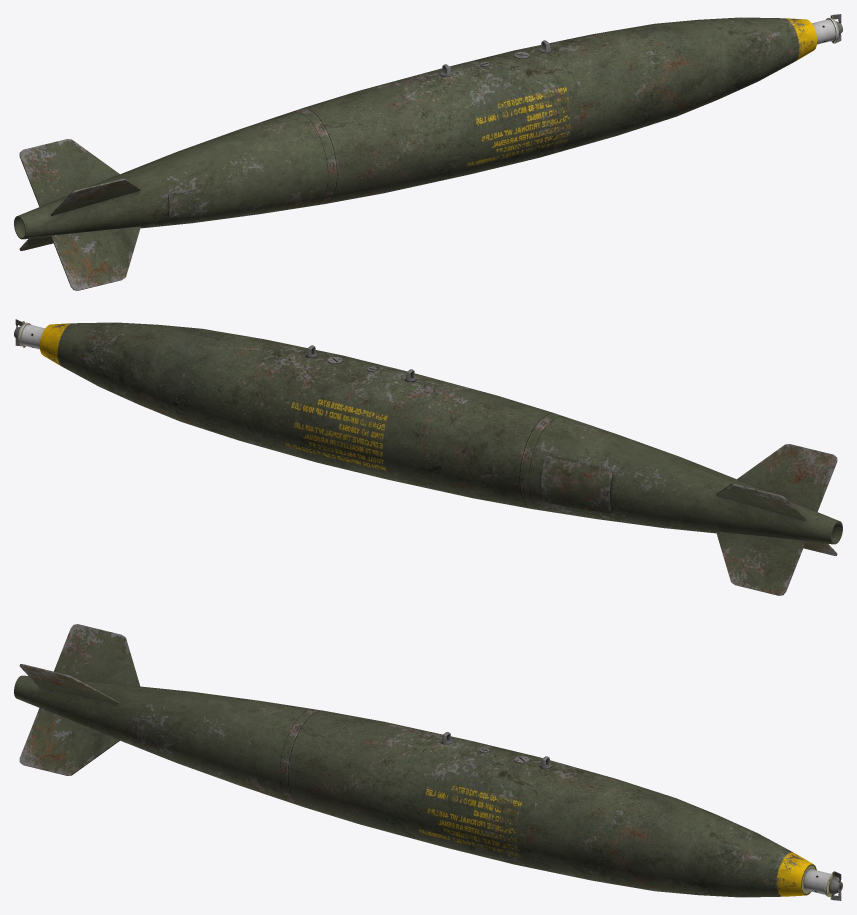
The model's file is us_1000_lb_ldgp_mk_83_bomb_war_thunder.glb.
The picture shows the model from 3 angles, top to bottom: view 1: azimuth 30°, elevation 25°; view 2: azimuth 150°, elevation 25°; view 3: azimuth 330°, elevation 25°; orthographic projection.
Parts seen in each view (by area): view 1: Object_2; view 2: Object_2; view 3: Object_2.
Boxes of the visible parts, box(x1,y1,x2,y2) form: Object_2: box(14, 14, 842, 290); Object_2: box(14, 319, 842, 595); Object_2: box(14, 624, 842, 900).
Size of the model in its own units: 3 by 0.3803 by 0.3532.
Materials: 1 (1 with a texture image).
